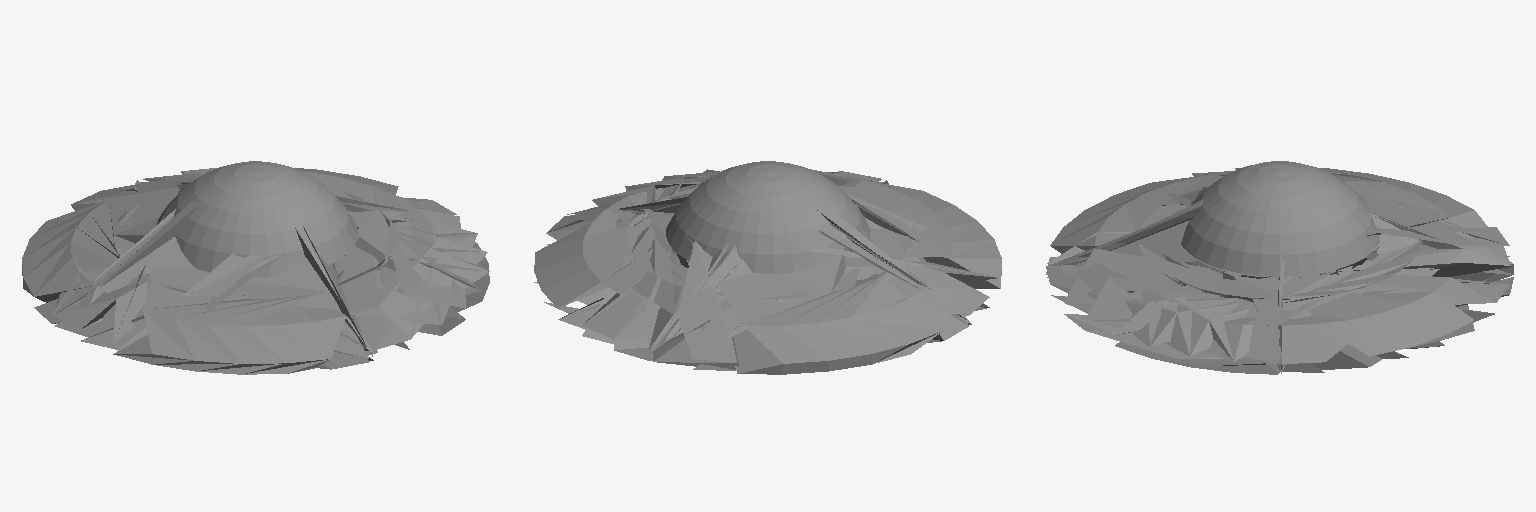
The model's file is ovni-obj.obj.
The picture shows the model from 3 angles: view 1: azimuth 30°, elevation 25°; view 2: azimuth 150°, elevation 25°; view 3: azimuth 270°, elevation 25°; orthographic projection.
Parts seen in each view (by area): view 1: UFO_body, UFO_cockpit; view 2: UFO_body, UFO_cockpit; view 3: UFO_body, UFO_cockpit.
Part boxes in pixels (left/top/right/bottom): UFO_body: left=22, top=167, right=489, bottom=374; UFO_cockpit: left=157, top=161, right=357, bottom=276; UFO_body: left=534, top=169, right=1001, bottom=374; UFO_cockpit: left=666, top=161, right=870, bottom=273; UFO_body: left=1046, top=168, right=1513, bottom=374; UFO_cockpit: left=1181, top=161, right=1379, bottom=276.
Bounding box in the file's own units: 67.87 × 27.04 × 67.87.